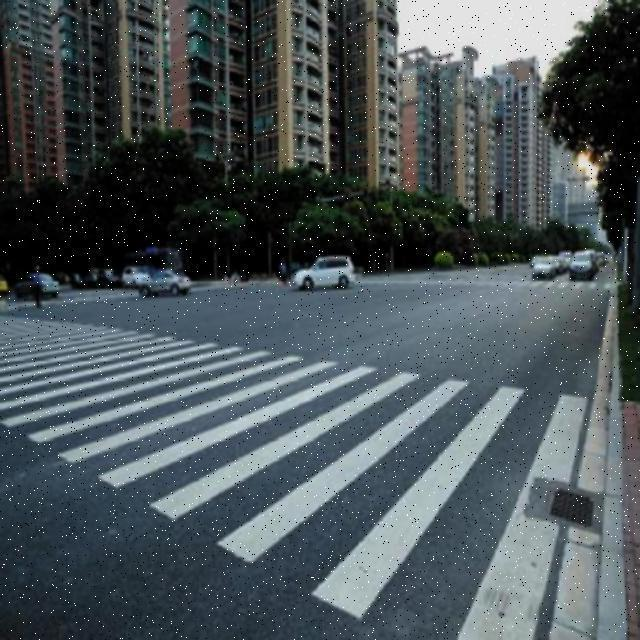Pedestrian crosswalk: (1, 313, 578, 619), (8, 273, 194, 313), (355, 273, 617, 293)
